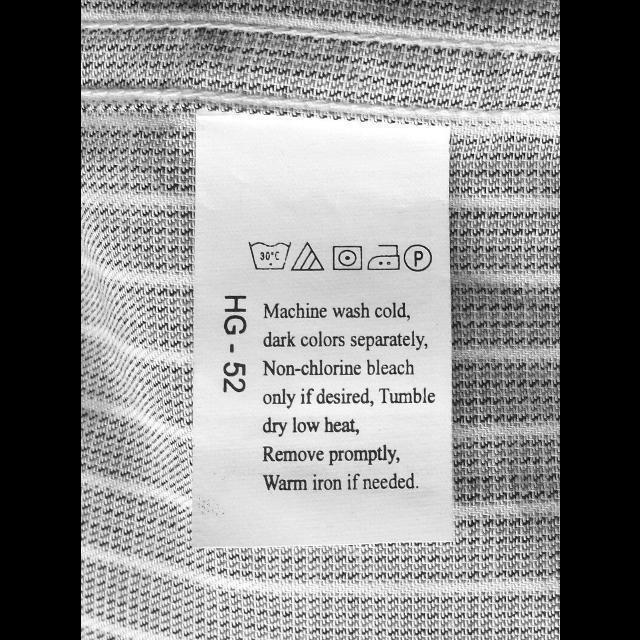30C: (244, 238, 292, 272)
iron_medium: (364, 242, 400, 272)
non_chlorine_bleach: (290, 240, 326, 274)
normal_dry_clean_solvents: (402, 242, 432, 272)
tumble_dry_low: (329, 242, 365, 272)
